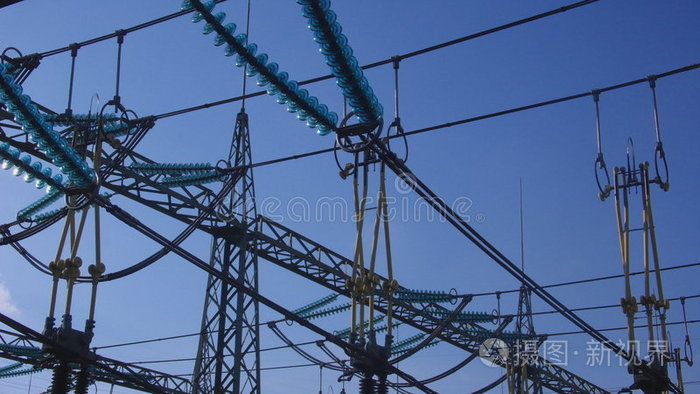insulator: (180, 1, 341, 136), (1, 69, 94, 183), (302, 1, 385, 124), (134, 157, 229, 185), (16, 189, 57, 219)
